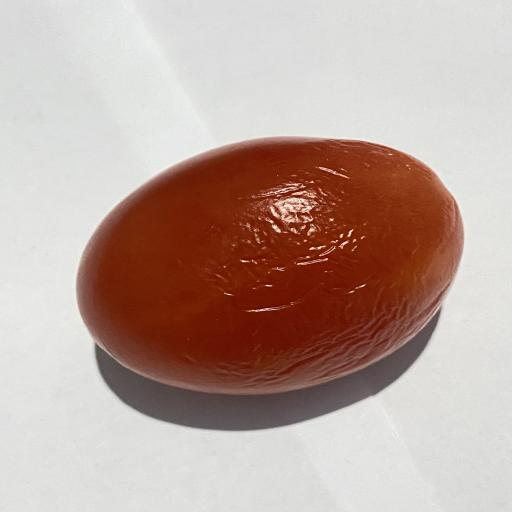spoiled: (78, 137, 463, 394)
